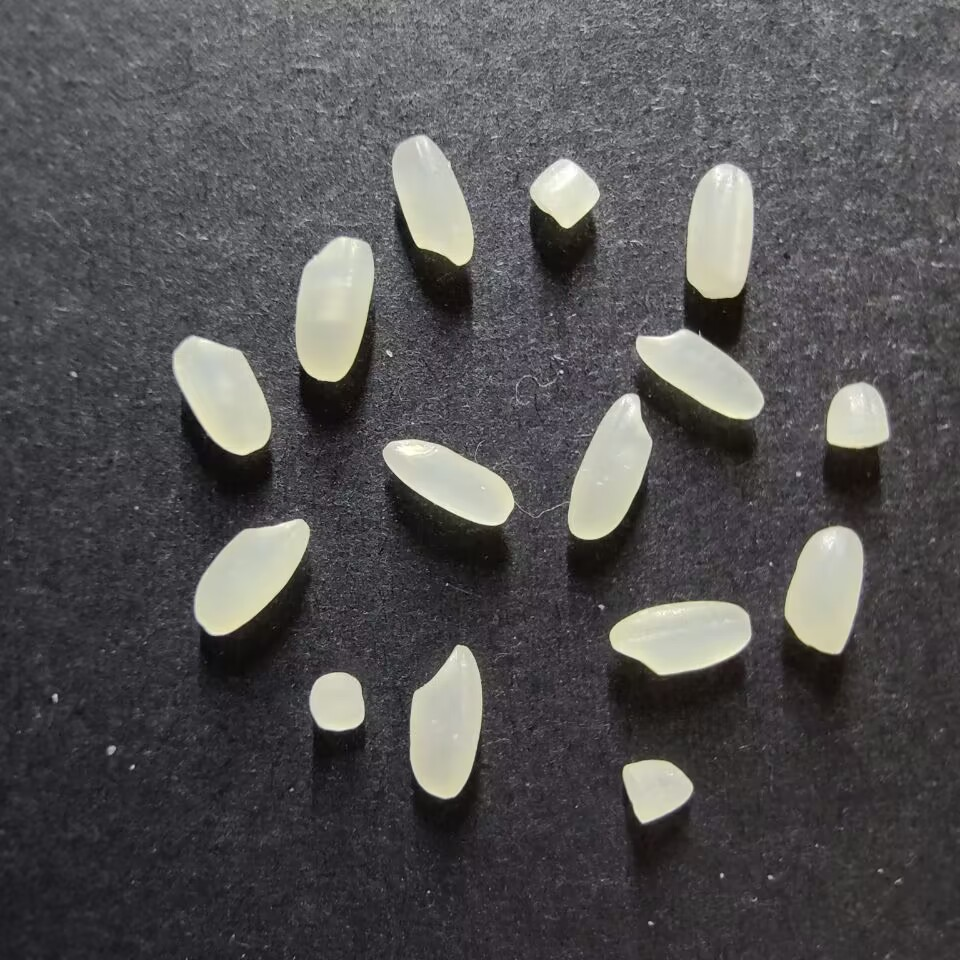broken: (529, 158, 599, 228), (621, 759, 693, 823), (825, 382, 887, 449), (308, 671, 365, 731)
rice: (192, 517, 309, 636), (566, 392, 652, 540), (171, 335, 271, 455), (634, 328, 764, 420), (294, 236, 374, 383), (408, 644, 483, 799), (381, 439, 514, 526), (390, 135, 474, 266), (608, 600, 752, 675), (783, 525, 863, 654), (684, 164, 754, 300)
